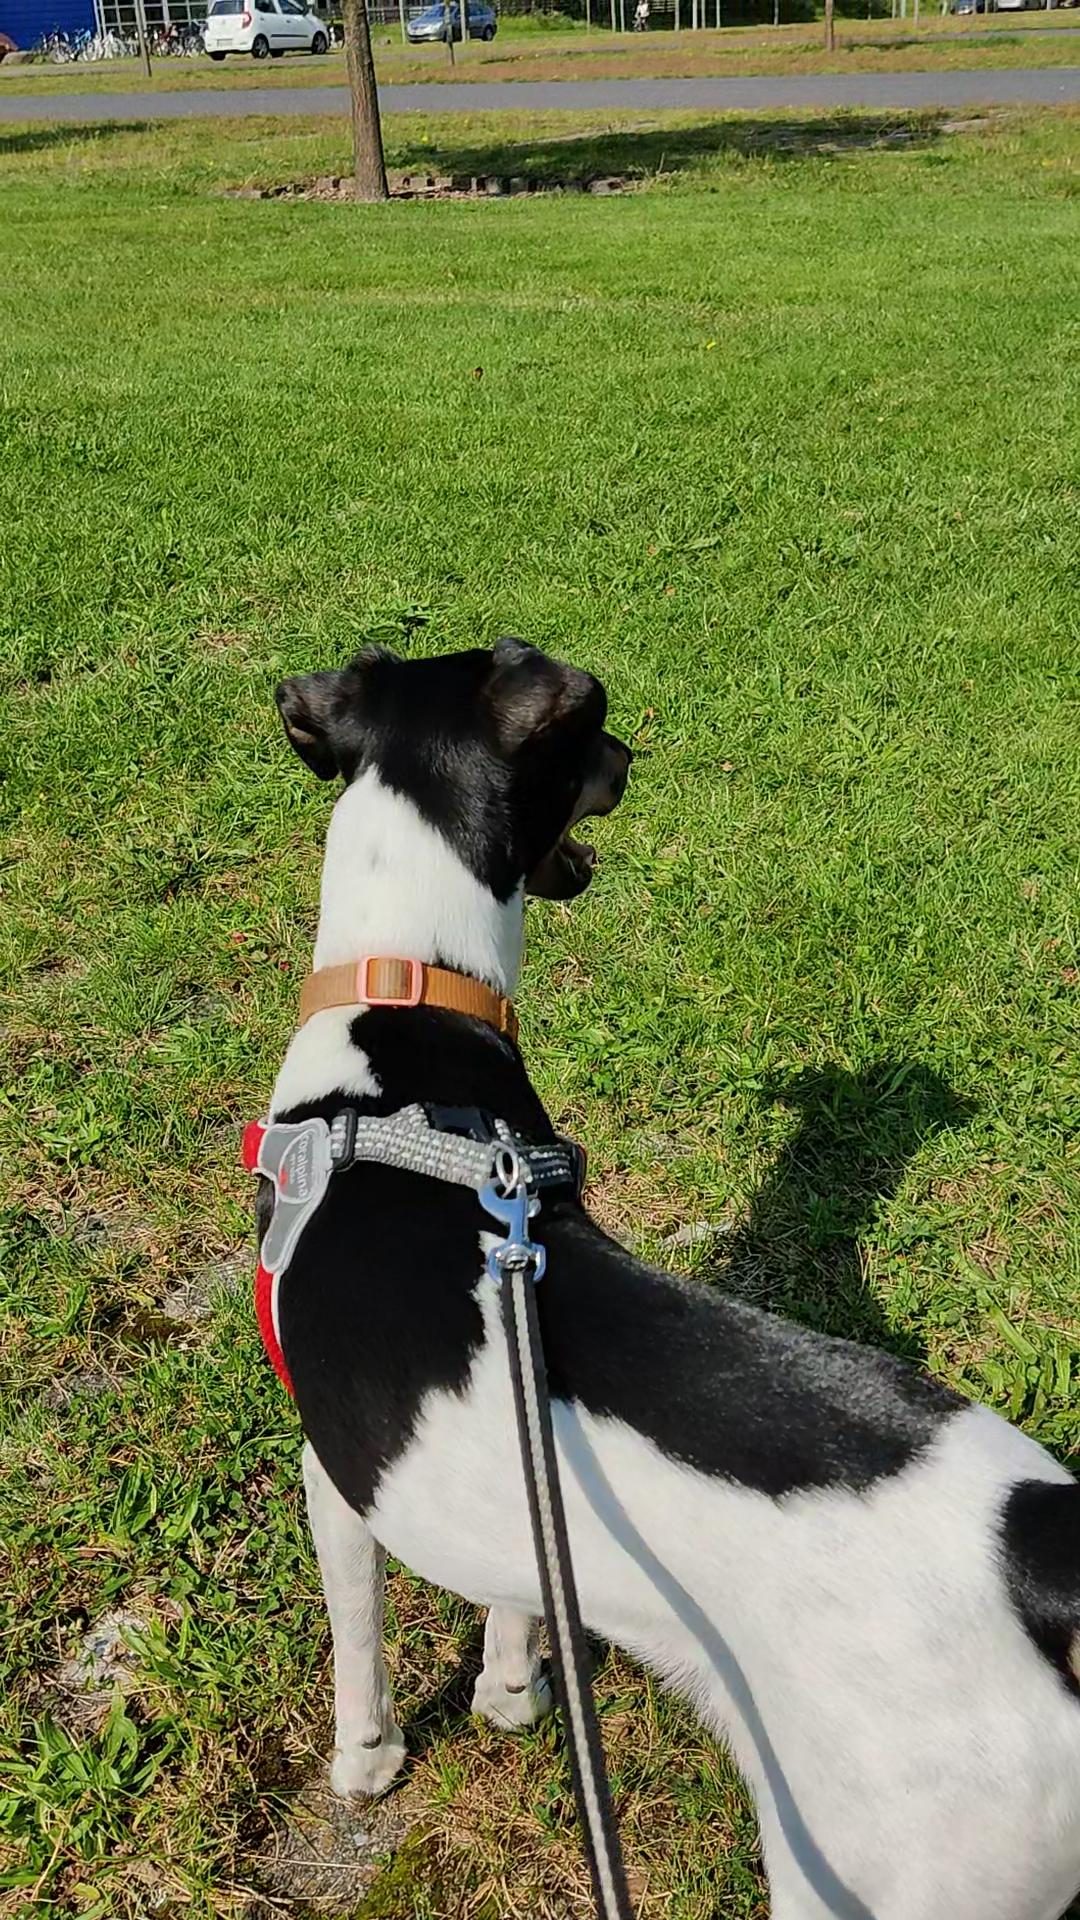Dog: (219, 592, 1079, 1919)
